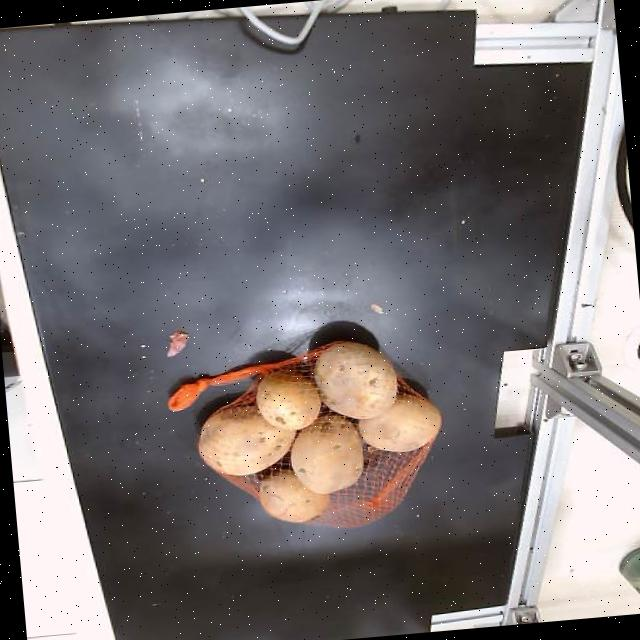potato: (197, 404, 295, 473), (314, 340, 397, 418), (289, 414, 363, 492), (359, 394, 439, 450), (257, 369, 321, 428), (259, 468, 328, 521)
